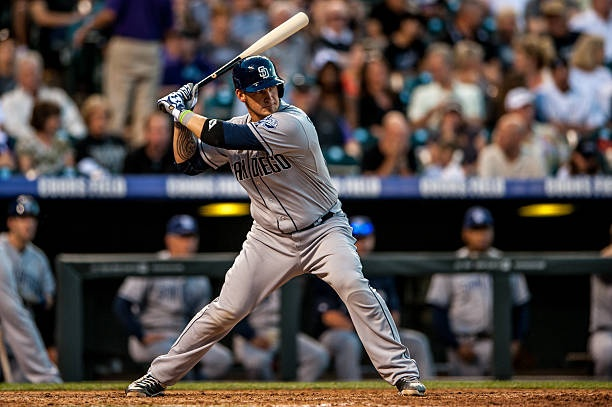bita: (185, 12, 308, 94)
